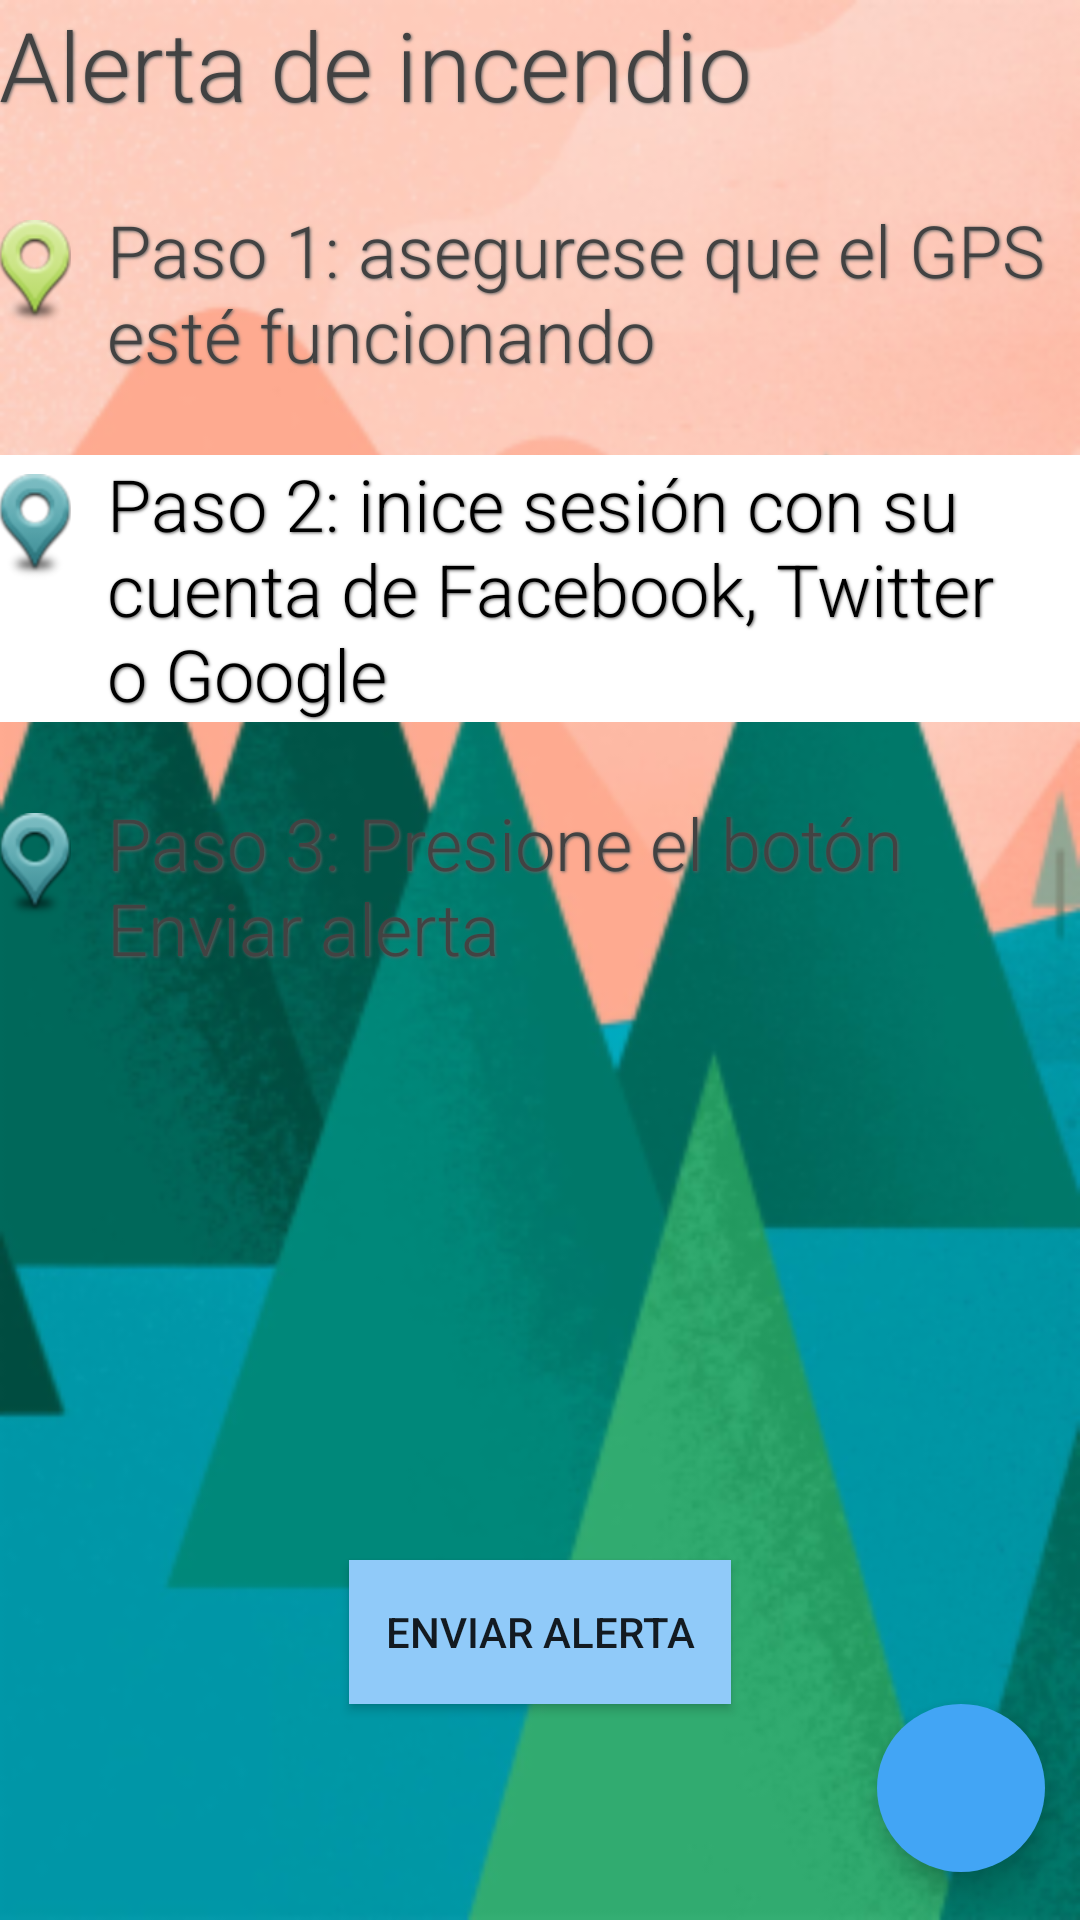

Icons on this 1080*1920 Android screen, each with its box as (x1, y1, x2, y2):
Activar GPS: (0, 220, 71, 319)
